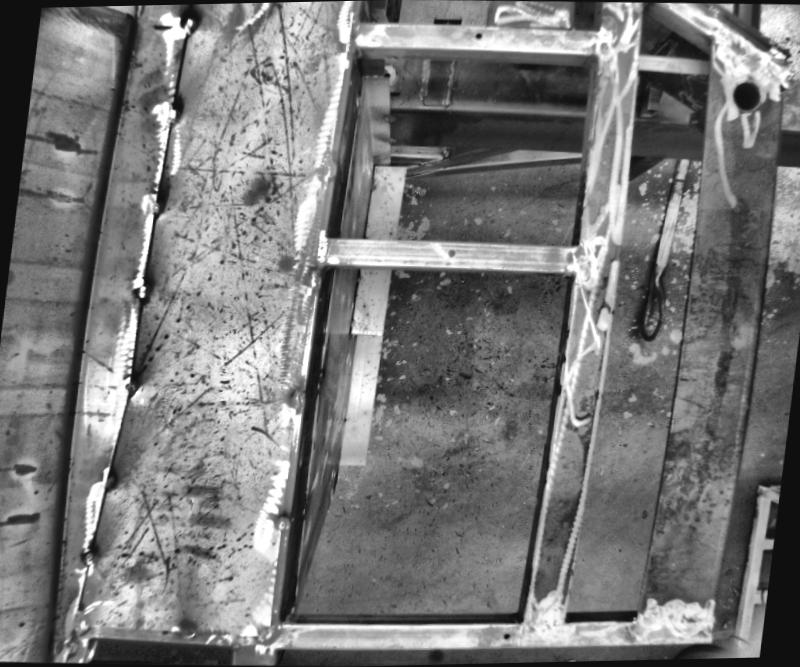hole: (725, 80, 763, 117), (446, 250, 456, 258), (473, 33, 482, 40), (503, 631, 511, 638)
